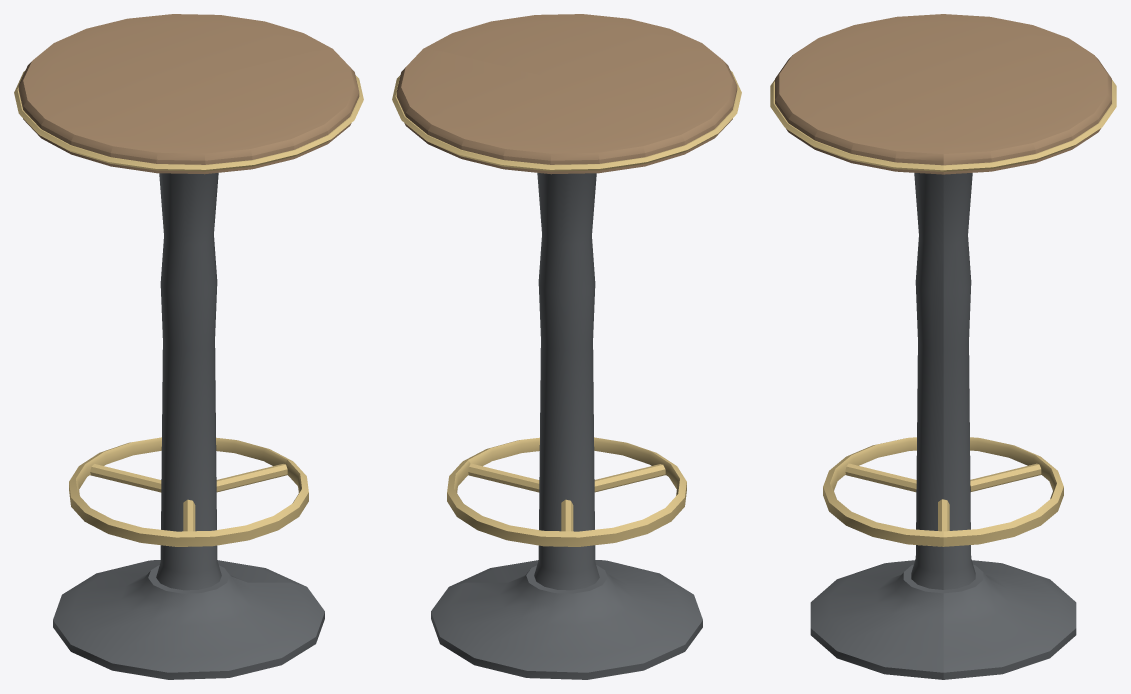
Rendered from bar-pub-and-brewery-taproom-poseur-table-840847d8__18381.glb.
The picture shows the model from 3 angles, left to right: view 1: azimuth 30°, elevation 25°; view 2: azimuth 150°, elevation 25°; view 3: azimuth 270°, elevation 25°; orthographic projection.
Parts seen in each view (by area): view 1: poseur-table; view 2: poseur-table; view 3: poseur-table.
Part boxes in pixels (box(x1,y1,x2,y2)): poseur-table: box(14, 14, 363, 679); poseur-table: box(392, 14, 741, 679); poseur-table: box(770, 14, 1116, 679).
Size of the model in its own units: 0.616 by 1.05 by 0.6098.
